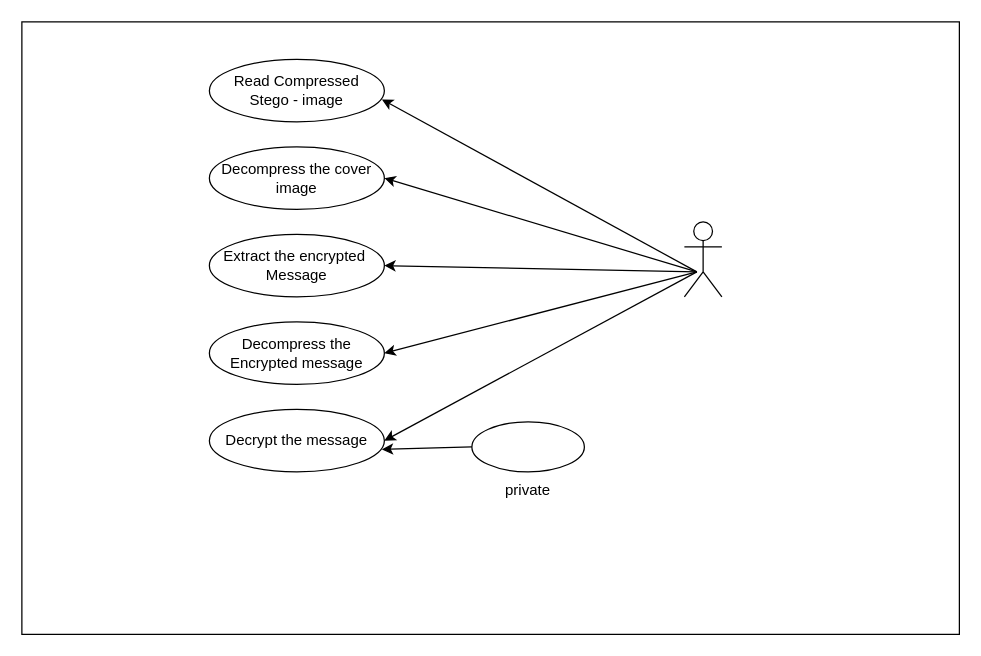
This 981x656 diagram has some shape labels left out. Each missing label, with the centre of its shape:
"key" belongs at point (527, 446).
"Receiver" belongs at point (702, 259).
